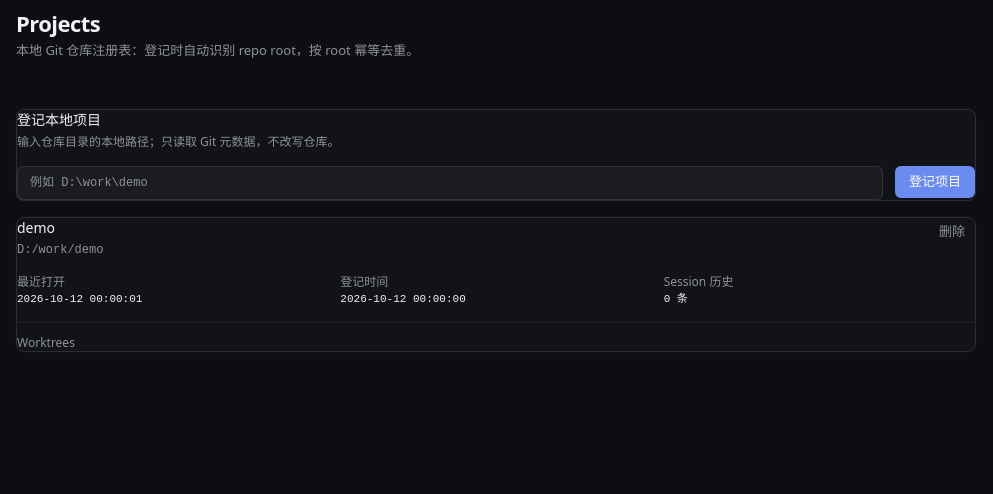
ProjectsPage › Worktrees 区（ROADMAP C10） › 默认折叠不发请求；展开后渲染路径 / 分支 / detached / HEAD 前 7 位 / 主树徽标
Expected: the element "demo" is shown, [16, 216, 976, 352]
Click the button "Worktrees": point(46, 343) [17, 335, 75, 351]
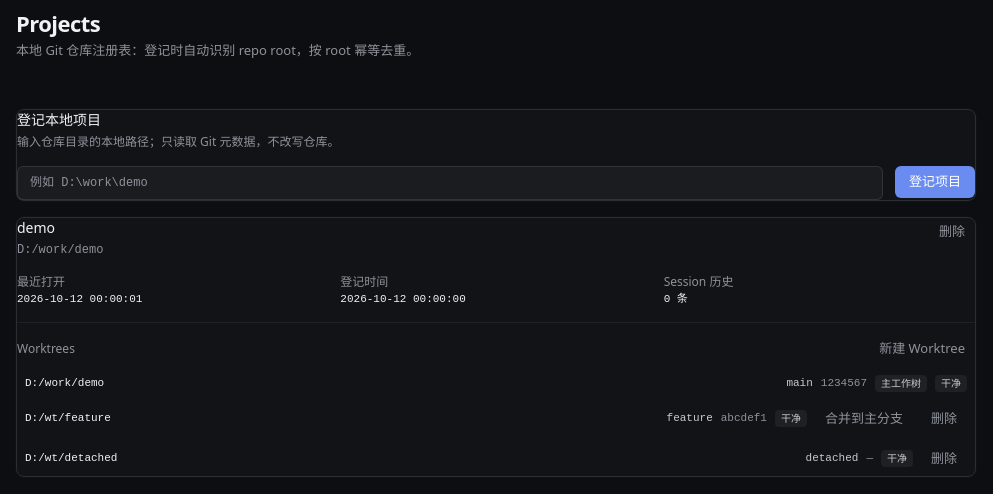
Result: the text "D:/wt/feature" is shown at [25, 412, 111, 424]
Result: the text "feature" is shown at [666, 411, 713, 426]
Result: the text "abcdef1" is shown at [721, 411, 767, 426]
